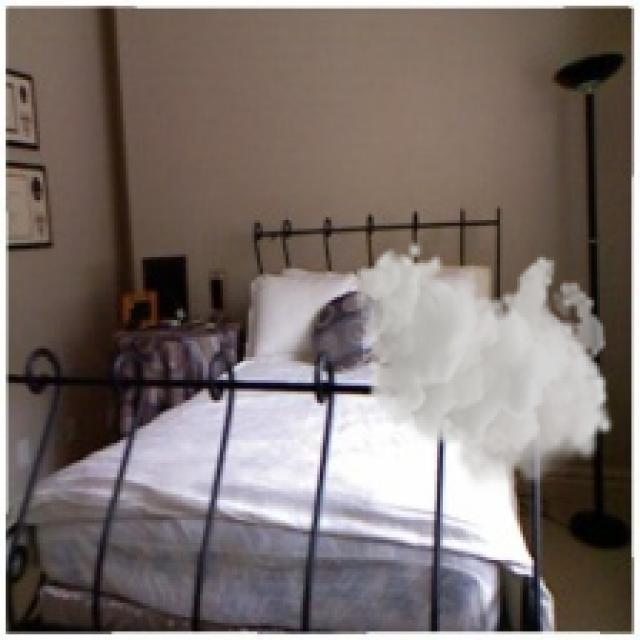Smoke: (354, 240, 614, 494)
